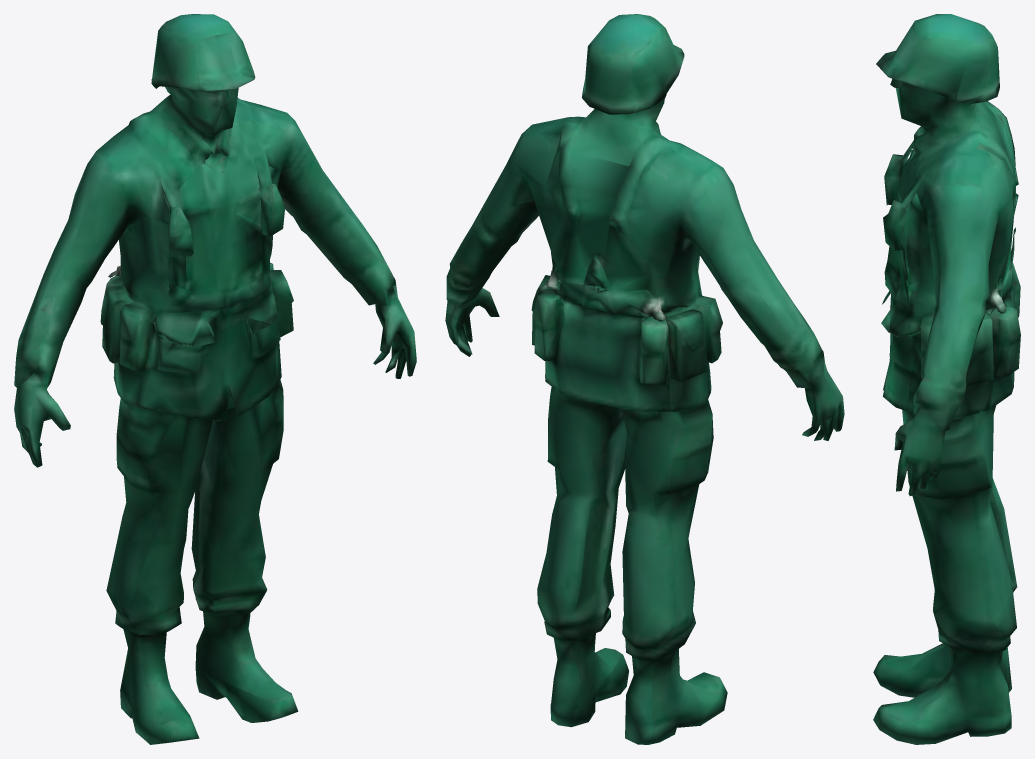
File: armyman.glb
3 renders of one model, left to right at view 1: azimuth 30°, elevation 25°; view 2: azimuth 150°, elevation 25°; view 3: azimuth 270°, elevation 25°, orthographic.
Visible parts, largest first — view 1: Object_4; view 2: Object_4; view 3: Object_4.
Boxes of the visible parts, left/top/right/bottom form: Object_4: left=14, top=14, right=416, bottom=744; Object_4: left=445, top=14, right=844, bottom=744; Object_4: left=873, top=14, right=1020, bottom=744.
Bounding box in the file's own units: 1.17 × 2 × 0.3872.
Materials: 1 (1 with a texture image).
